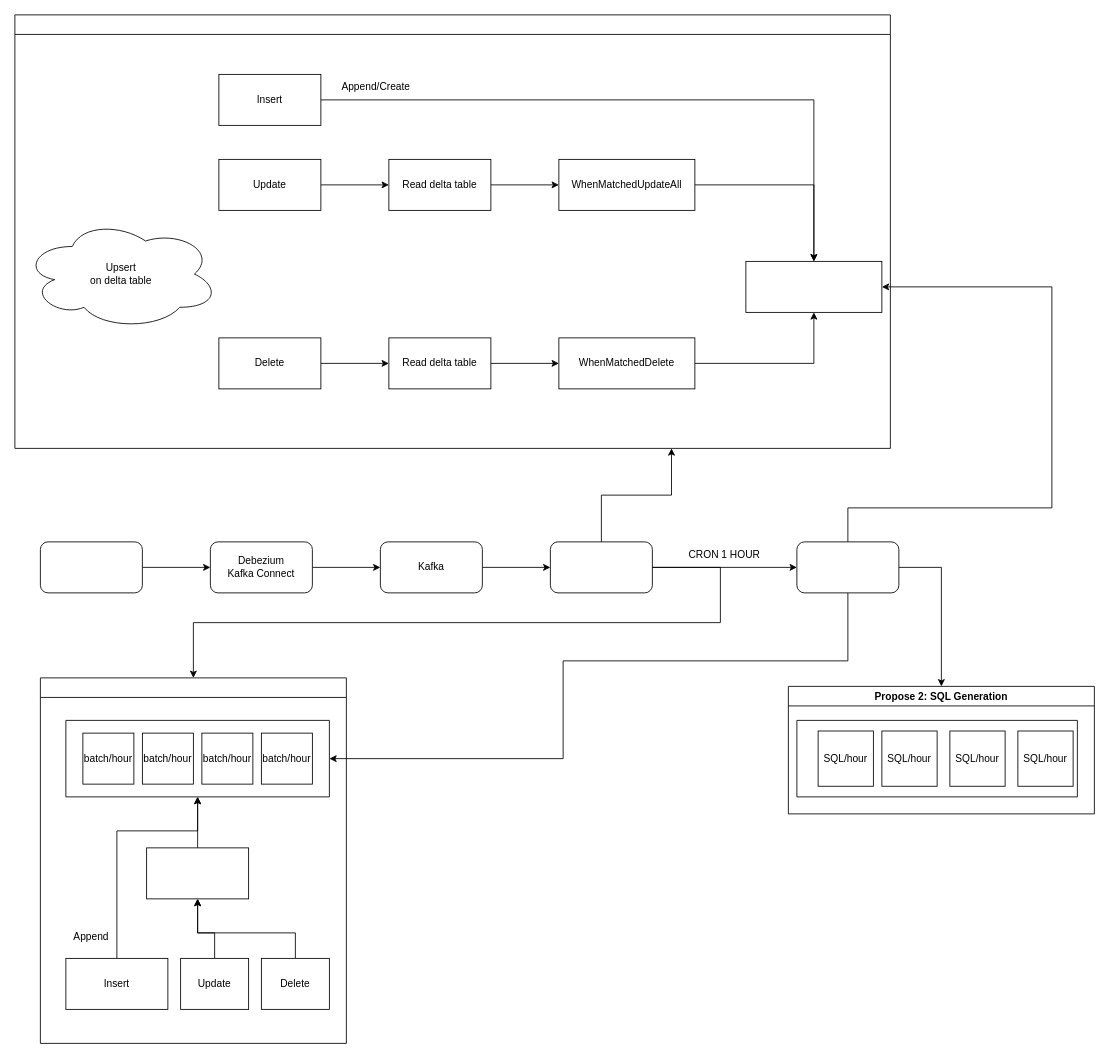
Image size: 1109x1058. Some labels were removed from this diagram. Here are the shapes that lost their labels. From the top down, the box of each, then its label:
(14, 14, 890, 448): Current Implementation
(745, 261, 882, 312): Update delta table
(40, 541, 142, 593): PostgreSQL
(550, 541, 652, 593): Apache Spark
(796, 541, 899, 593): MinIO
(40, 677, 346, 1043): Propose 1 Staging
(146, 847, 249, 899): WhenMatched
